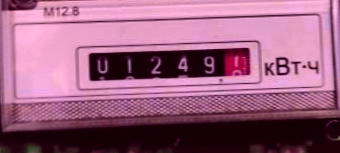0: (95, 52, 109, 72)
1: (121, 51, 134, 72)
2: (147, 51, 163, 73)
4: (175, 50, 189, 70)
7: (229, 45, 243, 66)
9: (202, 51, 215, 72)
screen: (72, 33, 265, 90)
